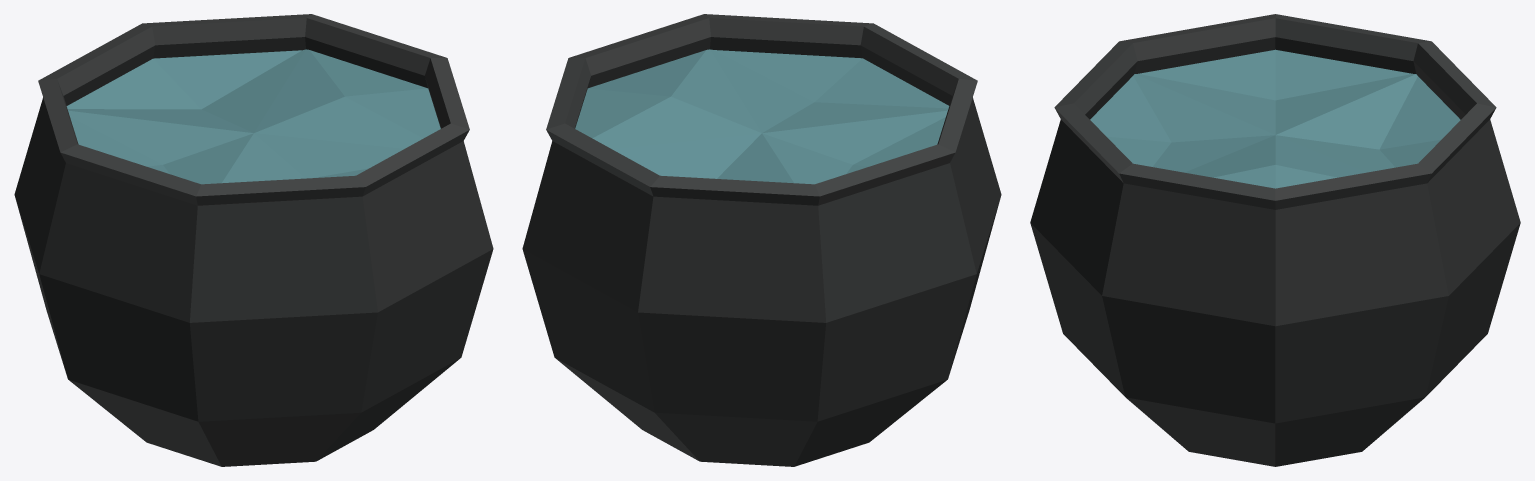
The model's file is Cauldron_1_Black.fbx.
3 renders of one model, left to right at view 1: azimuth 30°, elevation 25°; view 2: azimuth 150°, elevation 25°; view 3: azimuth 270°, elevation 25°, orthographic.
Visible parts, largest first — view 1: Cauldron_1_Black_Part_1, Cauldron_1_Black_Part_3, Cauldron_1_Black_Part_2; view 2: Cauldron_1_Black_Part_1, Cauldron_1_Black_Part_3, Cauldron_1_Black_Part_2; view 3: Cauldron_1_Black_Part_1, Cauldron_1_Black_Part_3, Cauldron_1_Black_Part_2.
Part boxes in pixels (left/top/right/bottom): Cauldron_1_Black_Part_1: left=14, top=37, right=493, bottom=466; Cauldron_1_Black_Part_3: left=66, top=49, right=440, bottom=184; Cauldron_1_Black_Part_2: left=38, top=14, right=469, bottom=205; Cauldron_1_Black_Part_1: left=522, top=37, right=1001, bottom=466; Cauldron_1_Black_Part_3: left=575, top=49, right=949, bottom=184; Cauldron_1_Black_Part_2: left=546, top=14, right=977, bottom=205; Cauldron_1_Black_Part_1: left=1030, top=37, right=1520, bottom=466; Cauldron_1_Black_Part_3: left=1090, top=49, right=1460, bottom=188; Cauldron_1_Black_Part_2: left=1054, top=14, right=1496, bottom=209.
Size of the model in its own units: 100 by 70.12 by 100.
